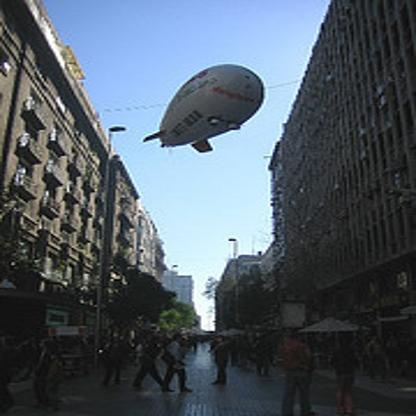Airship: (138, 64, 269, 160)
